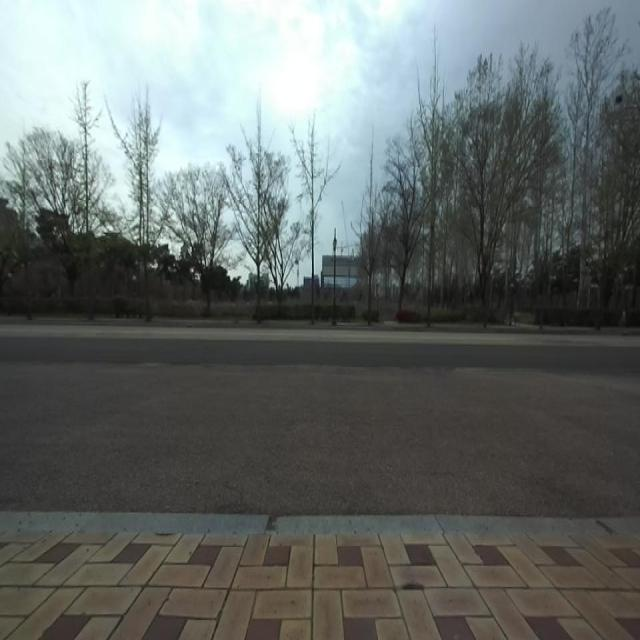sidewalk: (0, 363, 640, 516)
